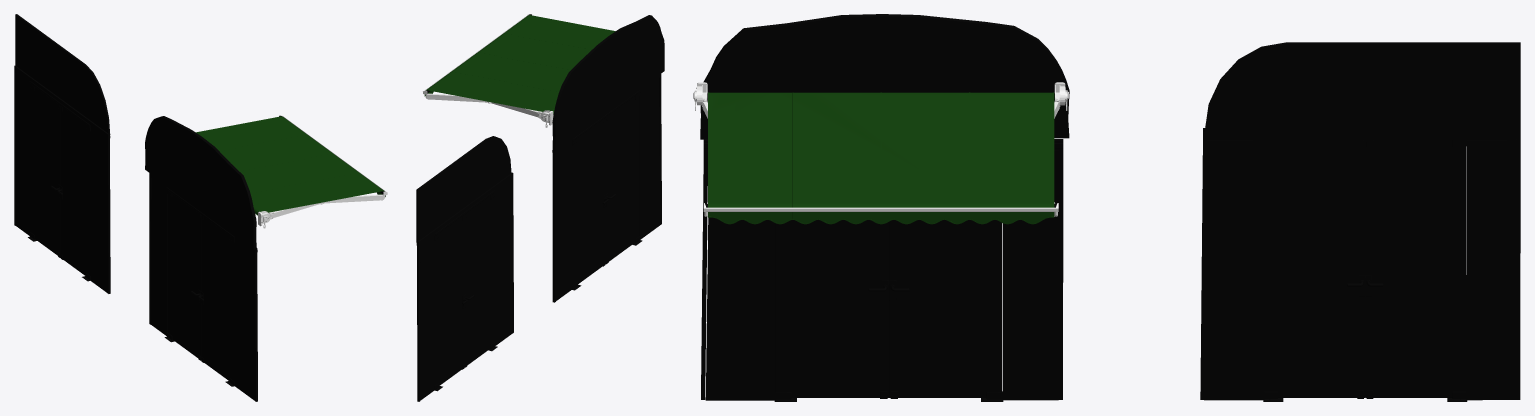
File: NEW SHOP UPDATE.fbx
3 renders of one model, left to right at view 1: azimuth 30°, elevation 25°; view 2: azimuth 150°, elevation 25°; view 3: azimuth 270°, elevation 25°, orthographic. The views are drawn at different scales.
Visible parts, largest first — view 1: Glass_Door_003__1_, Glass_Door_003, casset_awning13_casset_awning_fabric01_0, polySurface58, pCube48, polySurface55__1_, polySurface55, polySurface56__1_, polySurface56, pCube46, pCube46__1_, casset_awning14_casset_awning_plastic_0 (+1 smaller); view 2: Glass_Door_003__1_, Glass_Door_003, casset_awning13_casset_awning_fabric01_0, polySurface58, pCube48, polySurface55__1_, polySurface55, polySurface56__1_, polySurface56, pCube46, pCube46__1_, casset_awning14_casset_awning_plastic_0 (+1 smaller); view 3: Glass_Door_003, casset_awning13_casset_awning_fabric01_0, Glass_Door_003__1_, pCube48, polySurface58, polySurface55, polySurface56, polySurface55__1_, polySurface56__1_, pCube46, pCube46__1_, casset_awning14_casset_awning_plastic_0 (+1 smaller).
Part boxes in pixels (bbox=[...]): Glass_Door_003__1_: bbox=[164, 187, 234, 386]; Glass_Door_003: bbox=[28, 81, 90, 281]; casset_awning13_casset_awning_fabric01_0: bbox=[196, 116, 385, 215]; polySurface58: bbox=[145, 116, 256, 249]; pCube48: bbox=[15, 14, 110, 134]; polySurface55__1_: bbox=[234, 239, 254, 400]; polySurface55: bbox=[90, 128, 107, 292]; polySurface56__1_: bbox=[151, 178, 167, 335]; polySurface56: bbox=[16, 73, 30, 235]; pCube46: bbox=[14, 65, 110, 293]; pCube46__1_: bbox=[149, 173, 257, 401]; casset_awning14_casset_awning_plastic_0: bbox=[269, 115, 387, 219]; Glass_Door_003__1_: bbox=[572, 90, 642, 290]; Glass_Door_003: bbox=[434, 189, 497, 391]; casset_awning13_casset_awning_fabric01_0: bbox=[425, 15, 614, 114]; polySurface58: bbox=[552, 15, 664, 150]; pCube48: bbox=[416, 136, 511, 242]; polySurface55__1_: bbox=[639, 78, 660, 239]; polySurface55: bbox=[494, 180, 512, 345]; polySurface56__1_: bbox=[556, 142, 572, 300]; polySurface56: bbox=[420, 237, 434, 400]; pCube46: bbox=[416, 172, 513, 401]; pCube46__1_: bbox=[552, 74, 661, 302]; casset_awning14_casset_awning_plastic_0: bbox=[423, 14, 542, 118]; Glass_Door_003: bbox=[1263, 140, 1467, 401]; casset_awning13_casset_awning_fabric01_0: bbox=[709, 92, 1053, 223]; Glass_Door_003__1_: bbox=[774, 220, 1003, 401]; pCube48: bbox=[1204, 42, 1520, 132]; polySurface58: bbox=[700, 14, 1069, 139]; polySurface55: bbox=[1204, 140, 1264, 400]; polySurface56: bbox=[1466, 139, 1516, 400]; polySurface55__1_: bbox=[705, 217, 775, 400]; polySurface56__1_: bbox=[1003, 150, 1058, 400]; pCube46: bbox=[1200, 128, 1520, 399]; pCube46__1_: bbox=[701, 139, 1063, 399]; casset_awning14_casset_awning_plastic_0: bbox=[702, 92, 1059, 216].
Size of the model in its own units: 329 by 519 by 1017.
